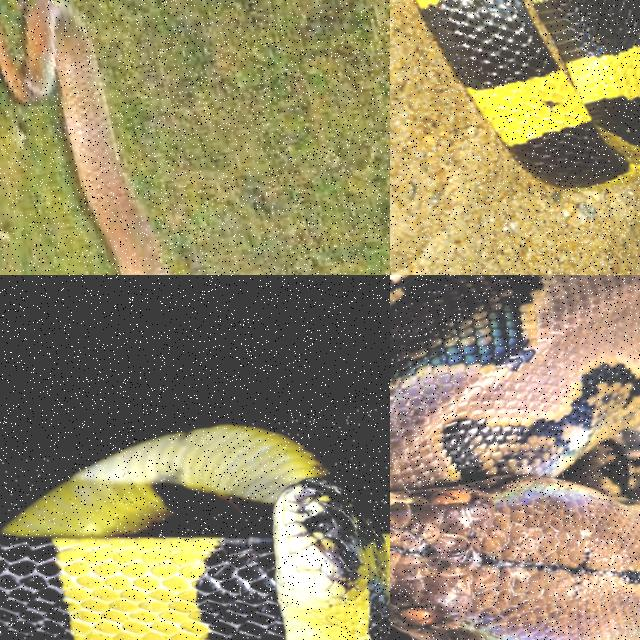Bungarus fasciatus: (0, 426, 389, 639), (416, 0, 639, 189)
Malayopython reticulatus: (390, 275, 639, 639)
Naja kaouthia: (0, 0, 160, 274)
snake: (390, 275, 639, 639), (0, 426, 389, 639), (0, 0, 160, 274), (416, 0, 639, 189)
